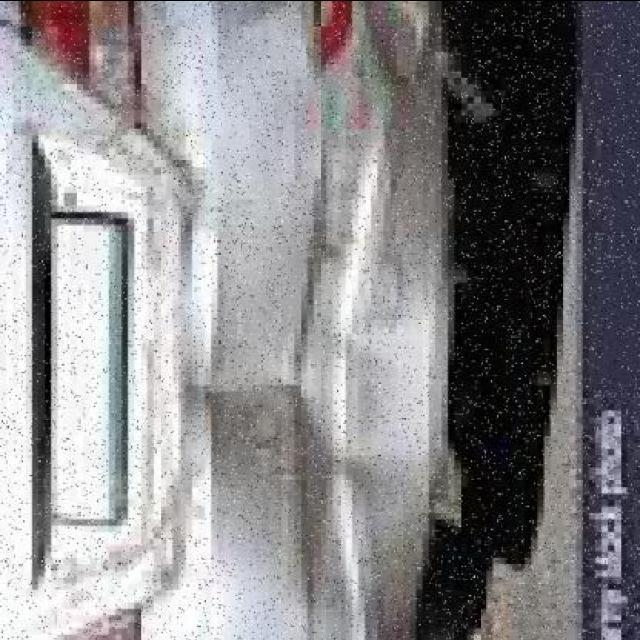rear-bumper-dent: (109, 6, 519, 640)
